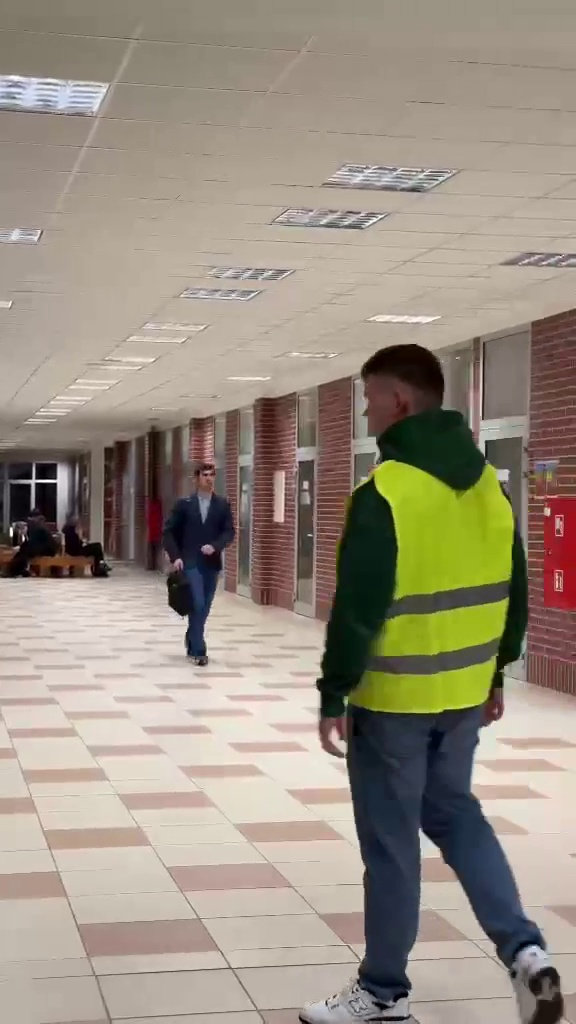no vest: (164, 466, 236, 647)
vest: (304, 342, 568, 1021)
